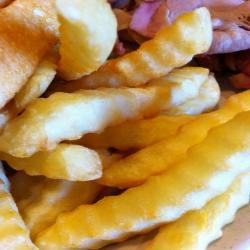fries: (7, 16, 245, 250)
